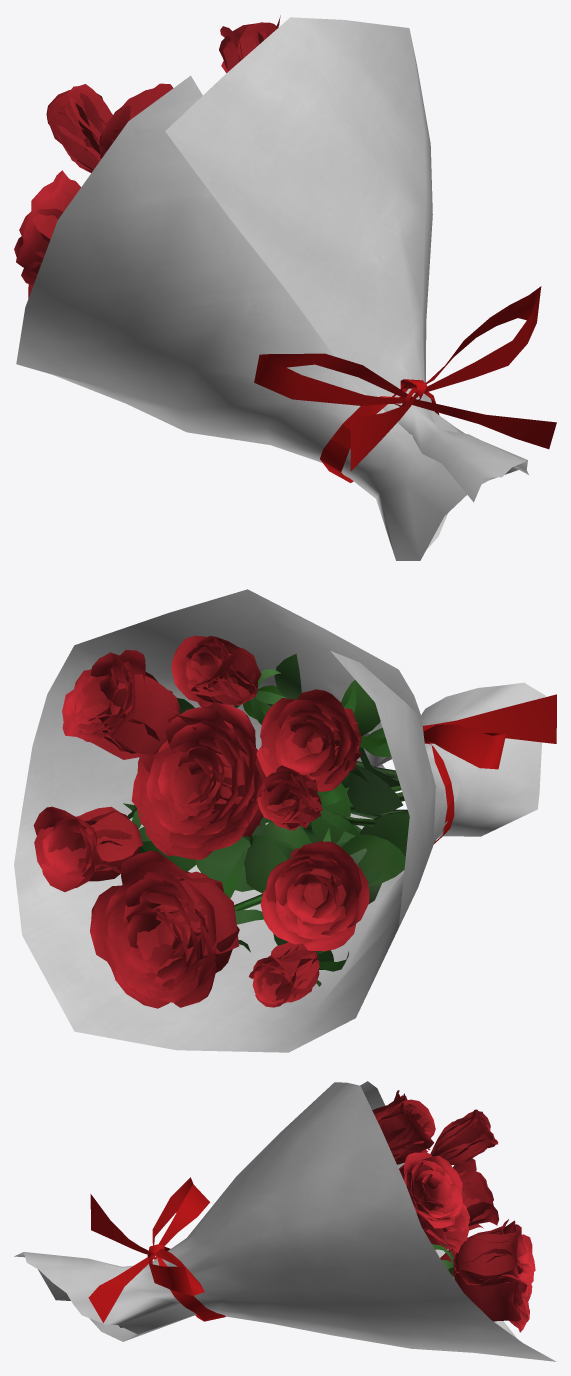
The picture shows the model from 3 angles, top to bottom: view 1: azimuth 30°, elevation 25°; view 2: azimuth 150°, elevation 25°; view 3: azimuth 270°, elevation 25°; orthographic projection. The views are drawn at different scales.
Parts seen in each view (by area): view 1: _3DGeom_4_Defintion, _3DGeom_2_Defintion (×5), _3DGeom_3_Defintion (×5); view 2: _3DGeom_4_Defintion, _3DGeom_3_Defintion (×45), _3DGeom_1_Defintion (×9), _3DGeom_2_Defintion (×2); view 3: _3DGeom_4_Defintion, _3DGeom_3_Defintion (×13), _3DGeom_2_Defintion (×6).
Boxes of the visible parts, x1,y1,x2,y2 form: _3DGeom_4_Defintion: (16, 17, 528, 560); _3DGeom_2_Defintion (×5): (254, 286, 556, 471); _3DGeom_3_Defintion (×5): (16, 83, 173, 273); _3DGeom_4_Defintion: (14, 589, 546, 1052); _3DGeom_3_Defintion (×45): (33, 635, 361, 1007); _3DGeom_1_Defintion (×9): (195, 653, 409, 893); _3DGeom_2_Defintion (×2): (422, 694, 556, 769); _3DGeom_4_Defintion: (14, 1081, 556, 1361); _3DGeom_3_Defintion (×13): (380, 1110, 523, 1321); _3DGeom_2_Defintion (×6): (88, 1177, 225, 1322).
Bounding box in the file's own units: 25.26 × 44.78 × 24.91.
4 materials, 4 textured.
